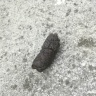Dog: (32, 34, 61, 72)
